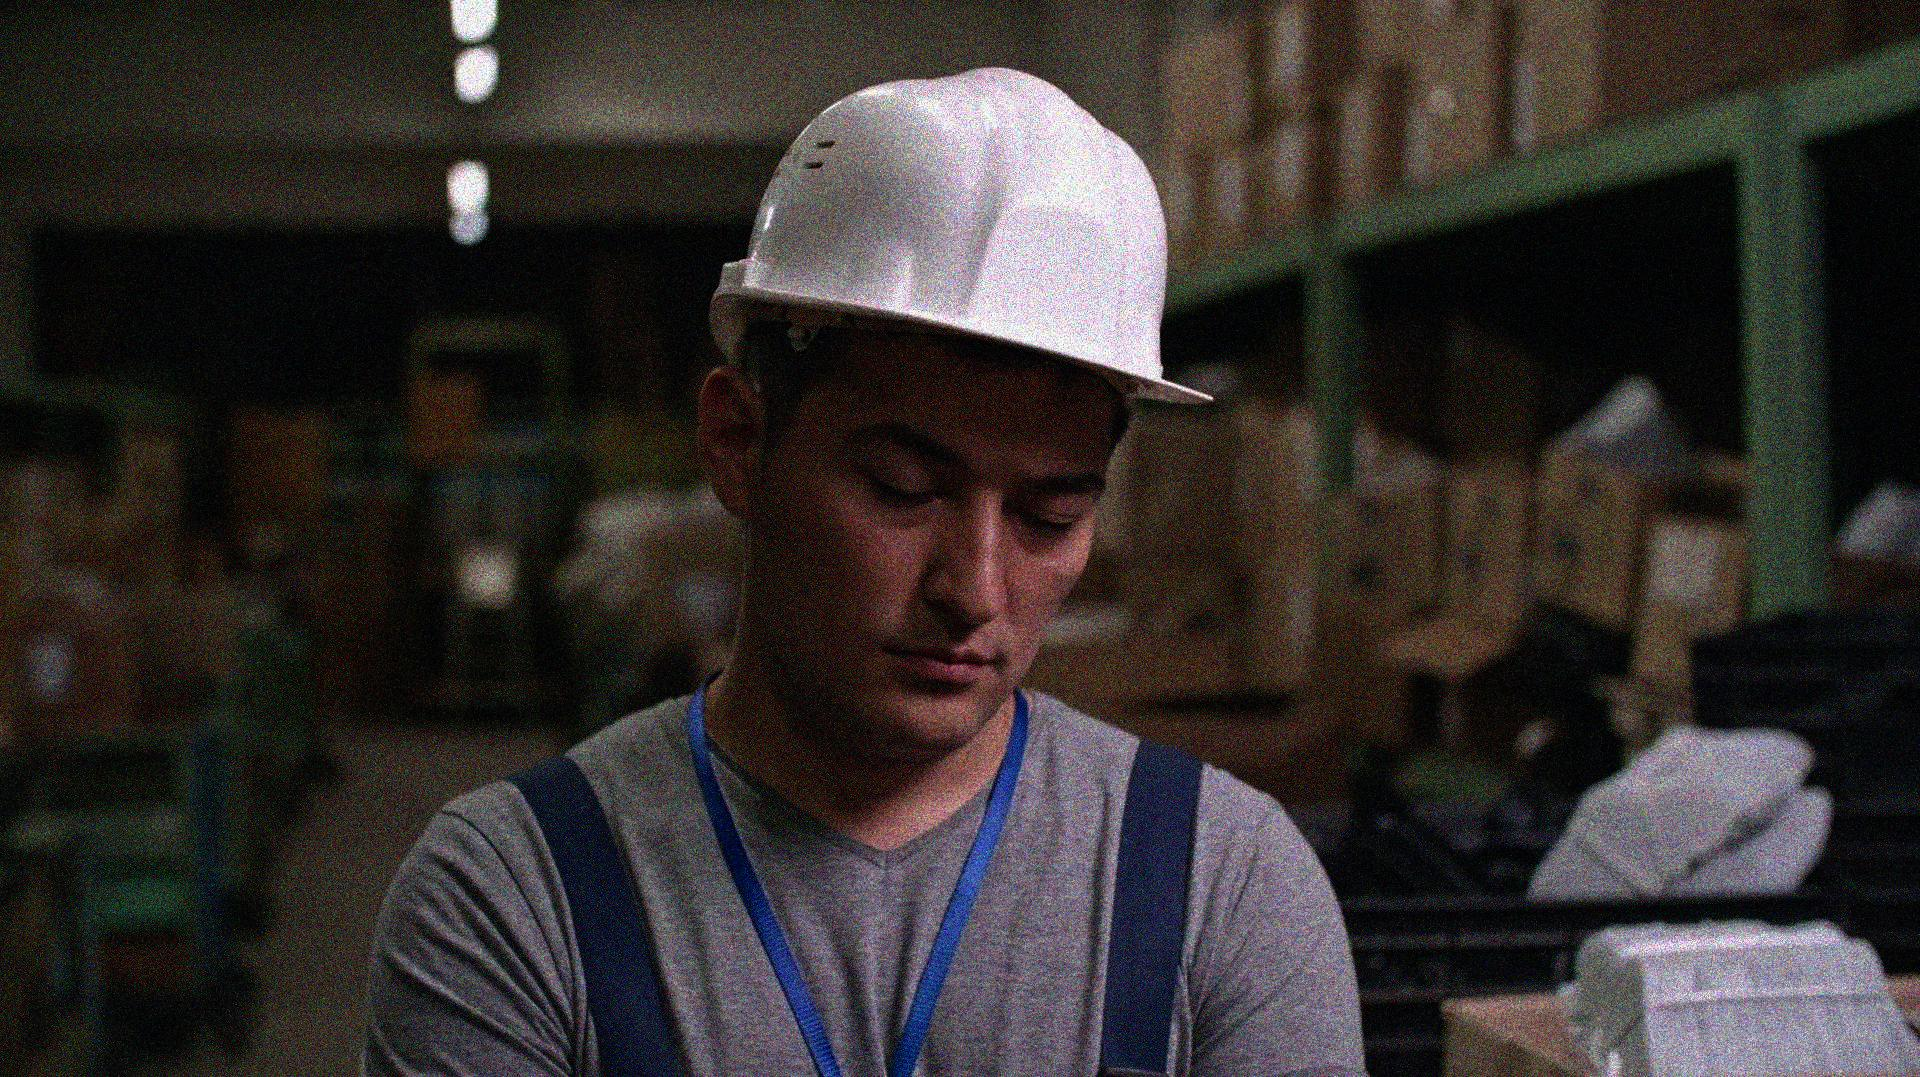helmet: (700, 63, 1222, 763)
